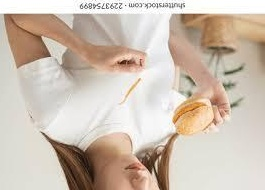mustard: (124, 83, 140, 97), (133, 75, 142, 85), (121, 97, 128, 106)
